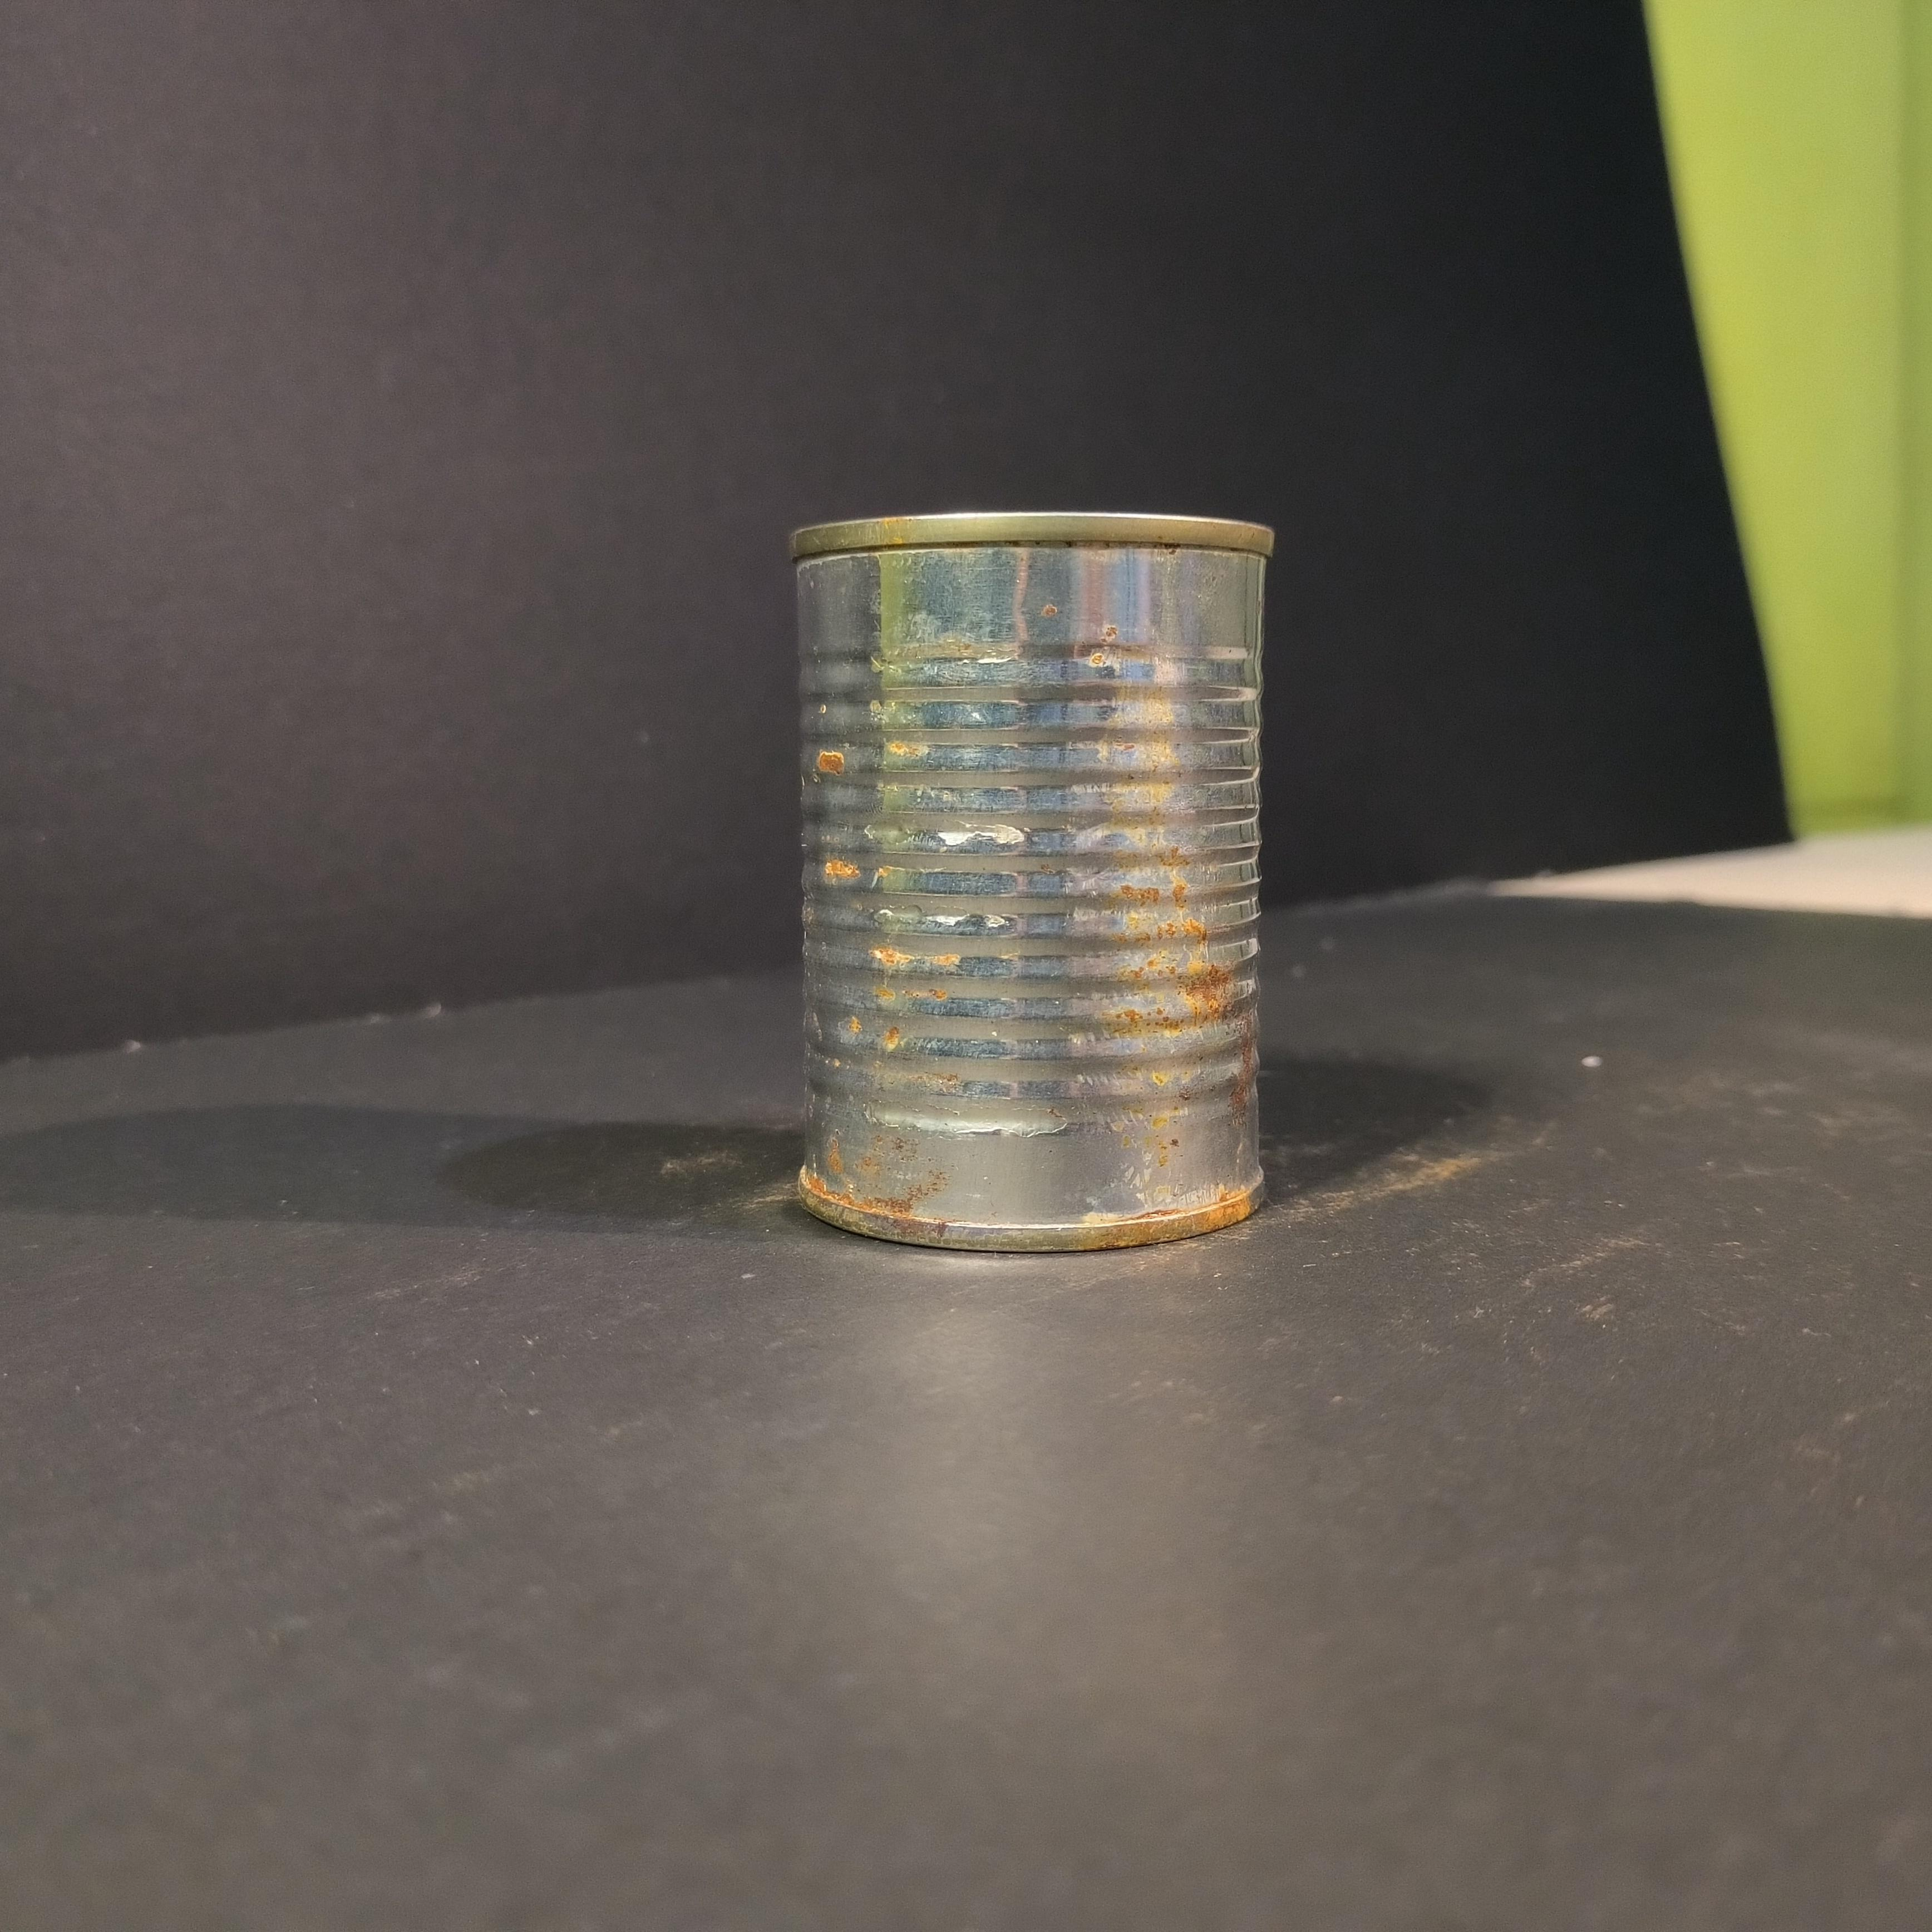Rusted: (782, 492, 1293, 1258)
